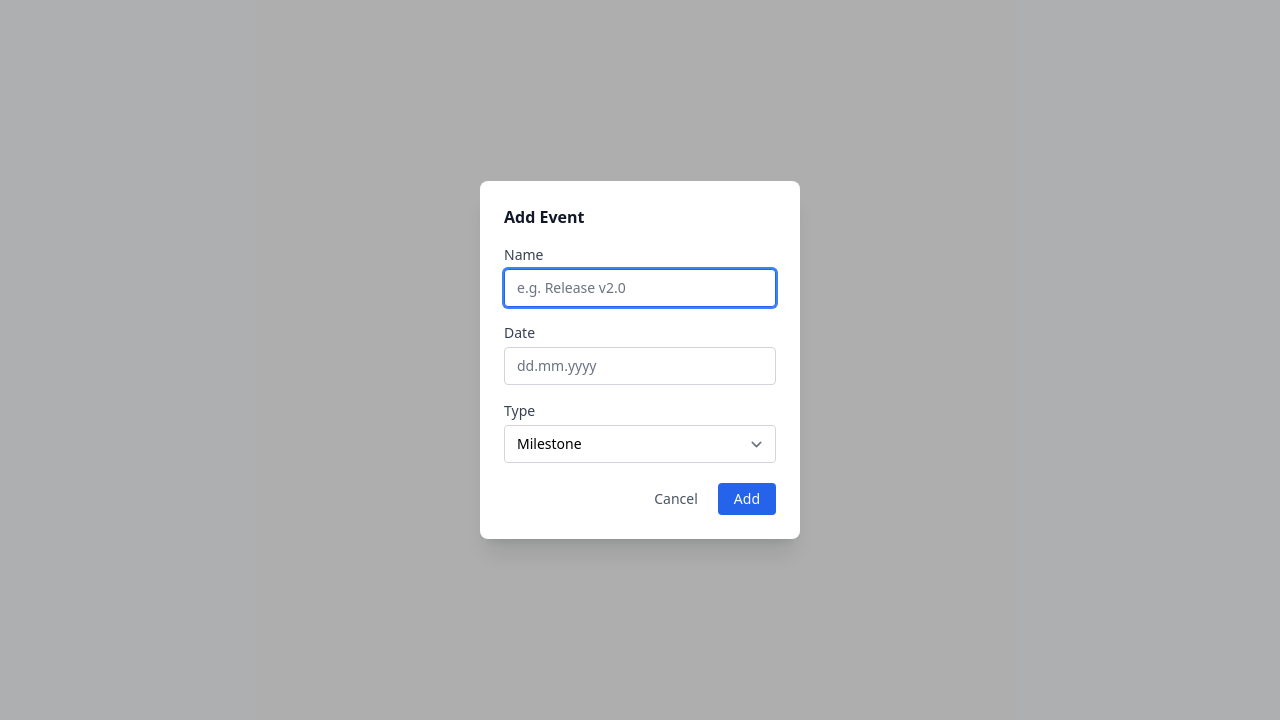
Test: PIEventModal › shows a save error and stays open when creating fails
The image size is (1280, 720).
Type "Kickoff" into the field labelled "Name".
click(640, 288); type("Kickoff")  # box [504,269,776,307]
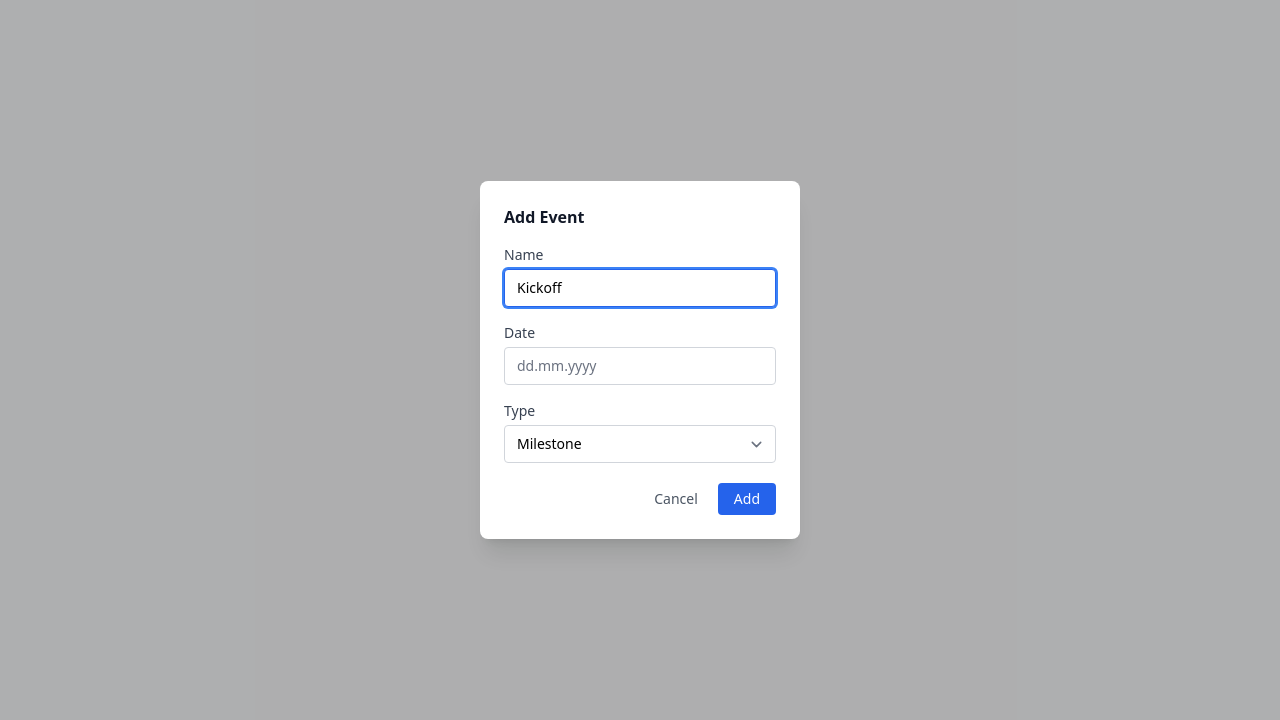
Type "05.03.2026" into the field labelled "Date".
click(640, 366); type("05.03.2026")  # box [504,347,776,385]
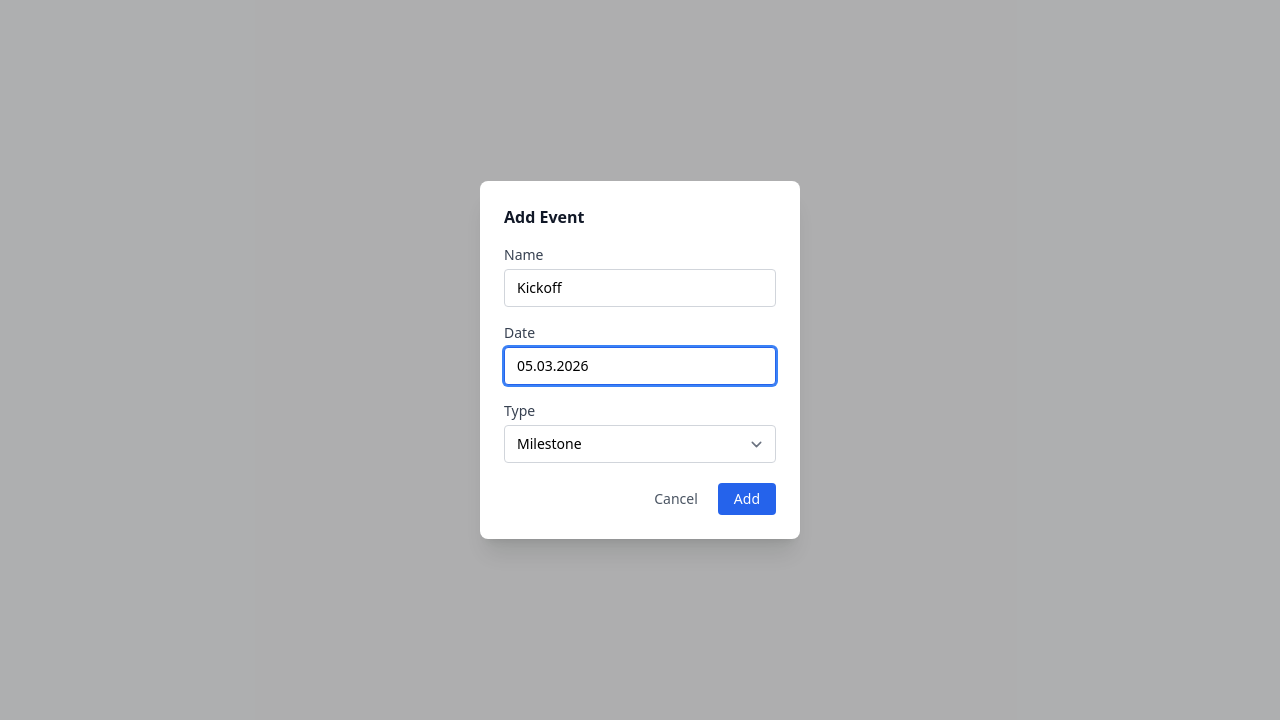
Press Tab
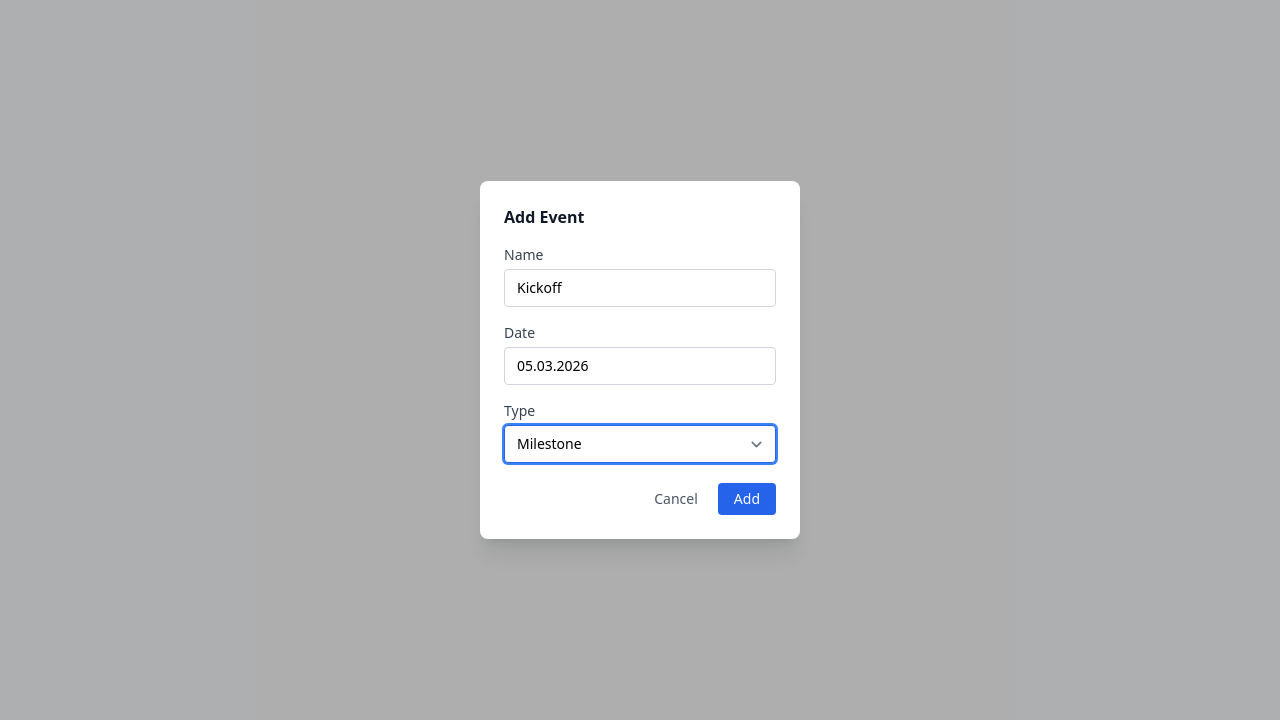
Click the button "Add".
click(747, 499)  # box [718,483,776,515]
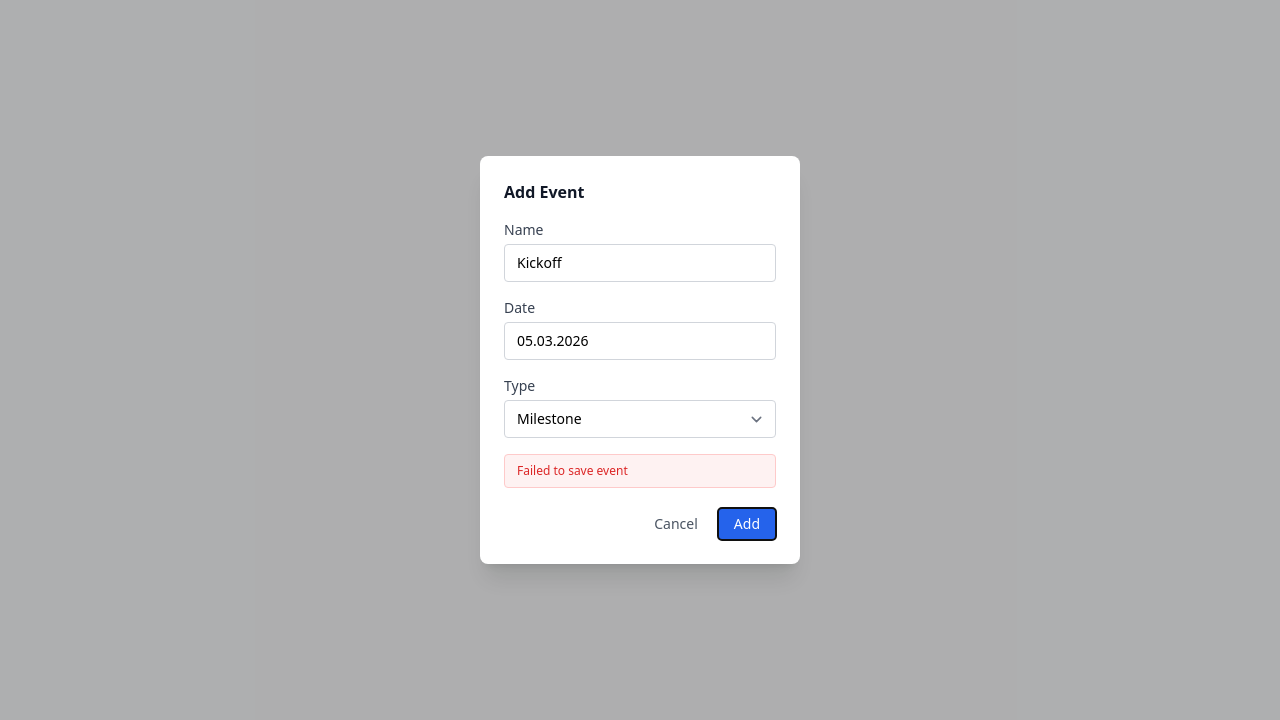
expect the text "Failed to save event" is shown: met, box [504,454,776,488]
